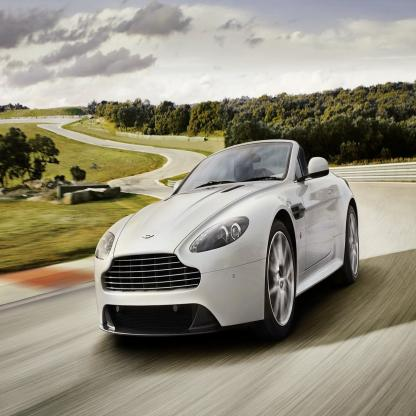Vehicle: (92, 138, 362, 340)
